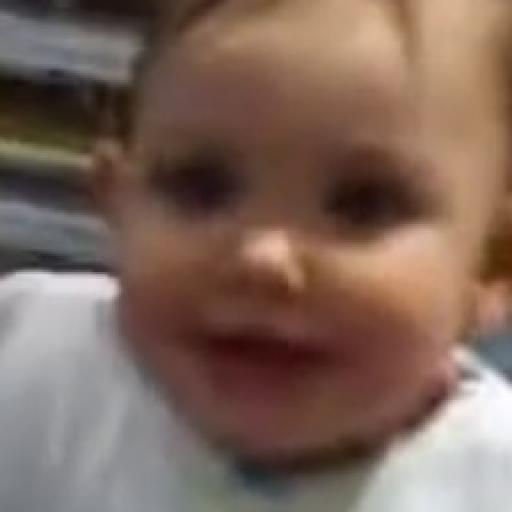Autism: (117, 56, 512, 484)
